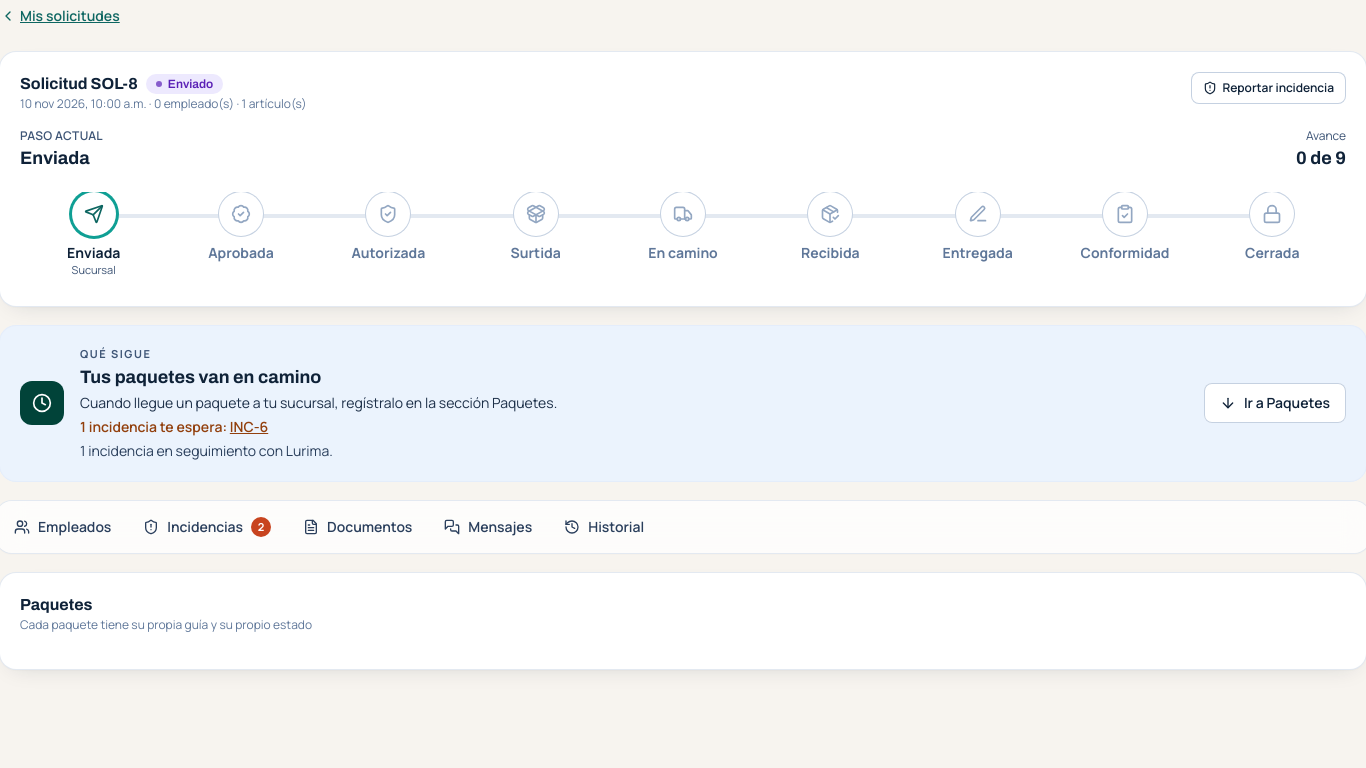
it: «Qué sigue» e incidencias en la solicitud de la sucursal › cada incidencia usa la tarjeta común con chip de la sucursal y enlace a su detalle
Step 1. Click the tab "Incidencias 2" → (207, 526), box [129,504,285,548]
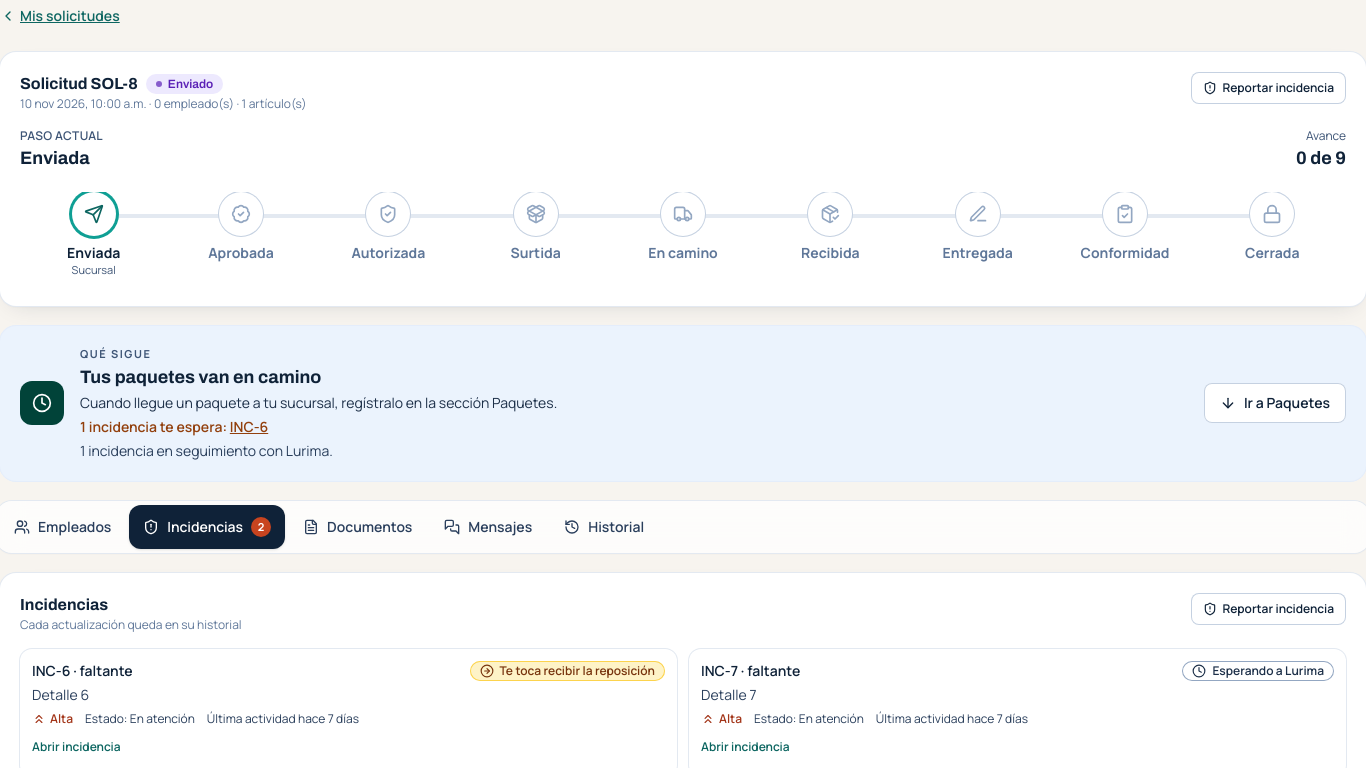
Expected: the text "Te toca recibir la reposición" is shown, [500,662,655,679]
Expected: the text "Esperando a Lurima" is shown, [1212,662,1324,679]
